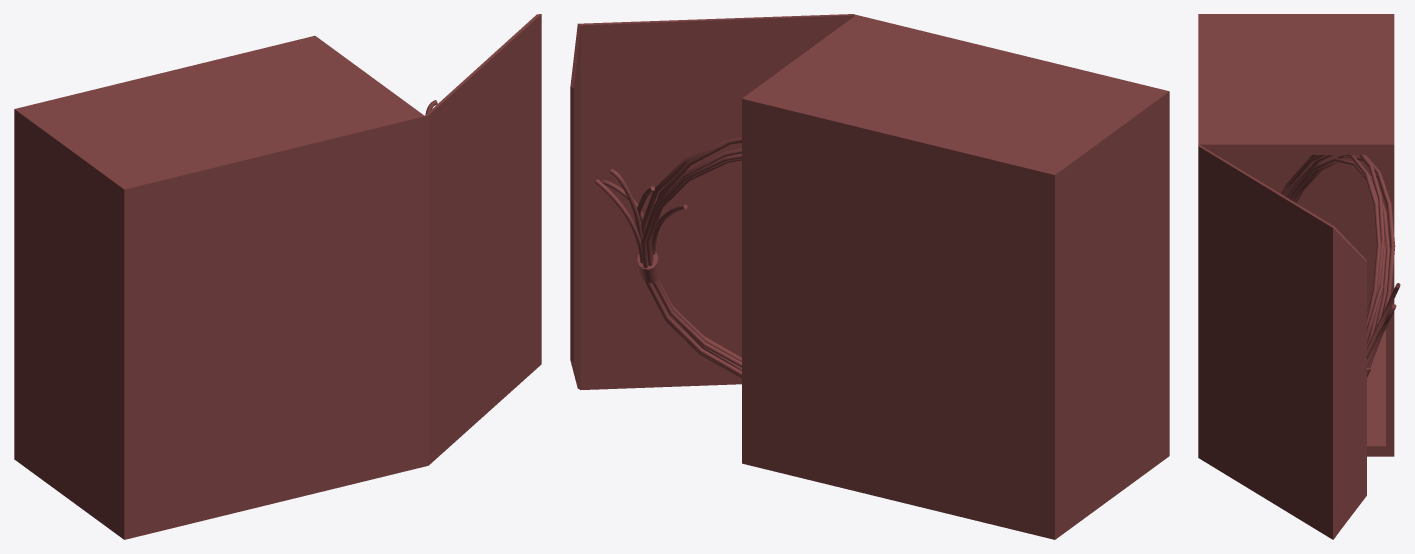
The model's file is Box_of_Guitar_Strings_V2.fbx.
The picture shows the model from 3 angles, left to right: view 1: azimuth 30°, elevation 25°; view 2: azimuth 150°, elevation 25°; view 3: azimuth 270°, elevation 25°; orthographic projection. The views are drawn at different scales.
Parts seen in each view (by area): view 1: Box_01, Box_02; view 2: Box_01, Box_02, String_02, String_01, String_06, String_04; view 3: Box_02, Box_01, String_05, String_06, String_03, String_02, String_04, String_01, Half_String_02, Half_String_03, Half_String_04.
Part boxes in pixels (x1,y1,x2,y2): Box_01: (14, 35, 425, 539); Box_02: (424, 14, 541, 466); Box_01: (742, 15, 1169, 539); Box_02: (570, 14, 855, 389); String_02: (646, 158, 741, 367); String_01: (641, 153, 741, 376); String_06: (642, 148, 741, 378); String_04: (656, 137, 741, 370); Box_02: (1198, 144, 1366, 539); Box_01: (1198, 14, 1394, 456); String_05: (1281, 155, 1381, 326); String_06: (1286, 155, 1395, 354); String_03: (1287, 157, 1386, 346); String_02: (1290, 159, 1390, 356); String_04: (1283, 155, 1384, 339); String_01: (1294, 155, 1390, 368); Half_String_02: (1367, 283, 1400, 357); Half_String_03: (1367, 304, 1396, 367); Half_String_04: (1367, 285, 1383, 341).
Size of the model in its own units: 47.25 by 32.1 by 18.84.
